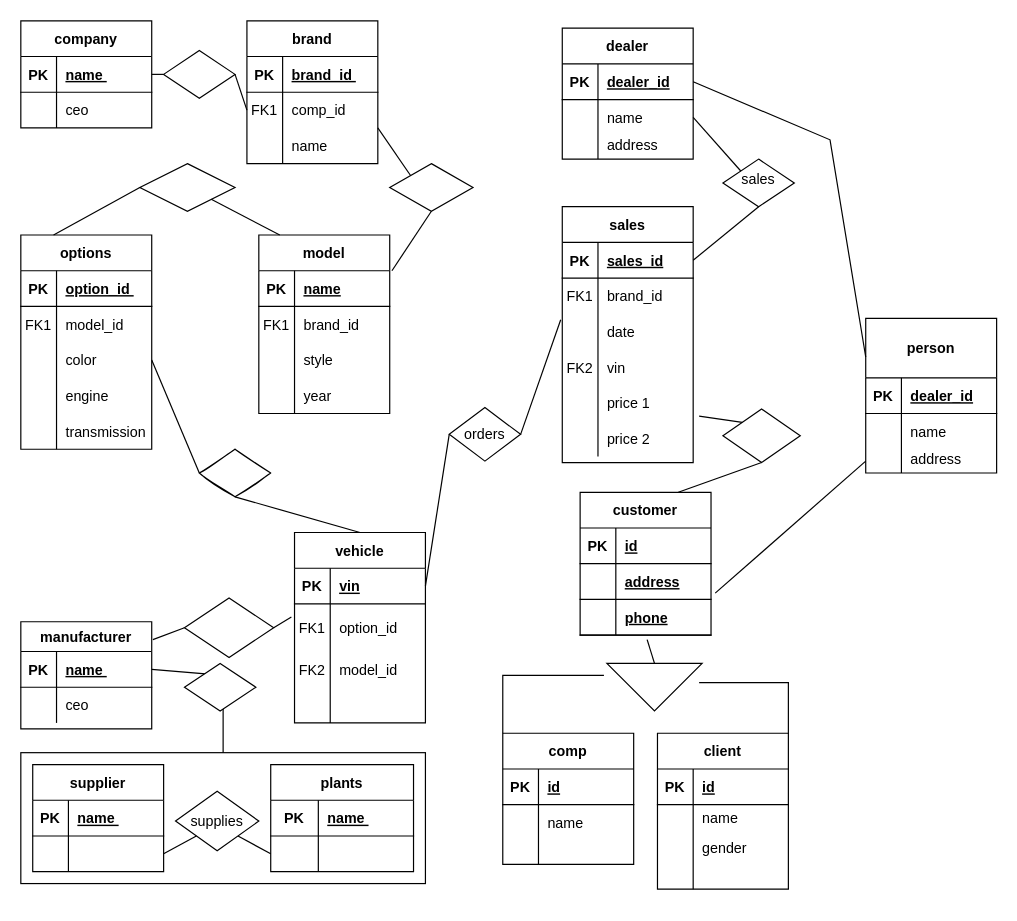
The diagram is 1017 pixels wide and 921 high, and some of its shapes have lost their labels. The centre of each missing label's shape, as x and y in pixels:
"buys" goes at (x=761, y=435).
"generates" goes at (x=228, y=627).
"has" goes at (x=198, y=73).
"is a" goes at (x=654, y=686).
"man_sup" goes at (x=219, y=686).
"offers" goes at (x=431, y=186).
"opt_veh" goes at (x=234, y=472).
"provides" goes at (x=187, y=186).
